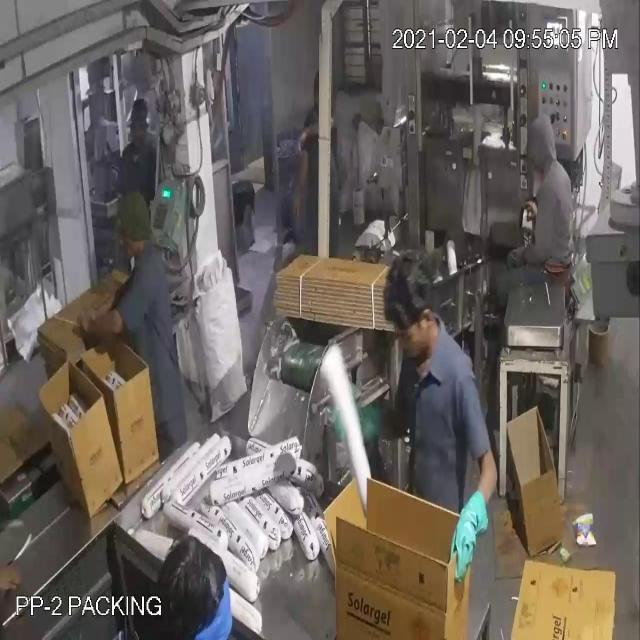No_Gloves: (26, 70, 466, 542)
